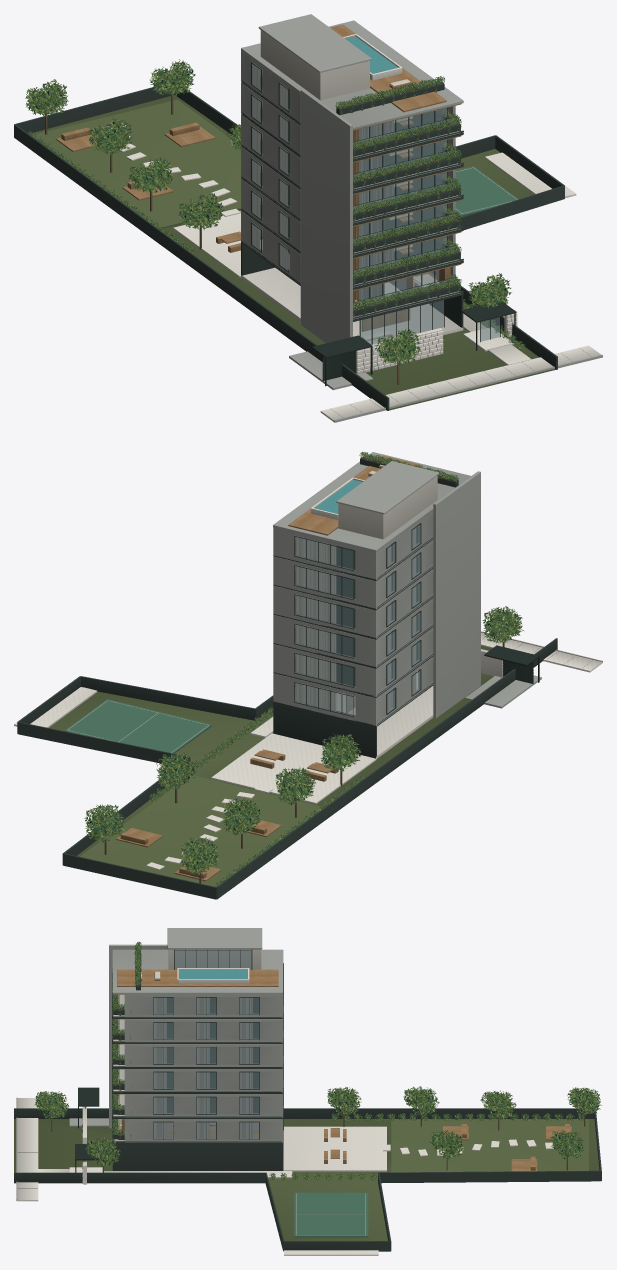
The model's file is apogeu.glb.
3 renders of one model, top to bottom at view 1: azimuth 30°, elevation 25°; view 2: azimuth 150°, elevation 25°; view 3: azimuth 270°, elevation 25°, orthographic. The views are drawn at different scales.
Visible parts, largest first — view 1: structure__Concreto mineral, site__Revestimento grafite, leisure__Forracao rasteira, site__Forracao rasteira, roof__Concreto mineral, site__Piso mineral claro, landscape__Folha 1, landscape__Folha 3, landscape__Folha 2, base__Piso mineral claro, landscape__Folha 0, roof__Paredes internas (+46 smaller); view 2: site__Revestimento grafite, leisure__Forracao rasteira, structure__Concreto mineral, site__Forracao rasteira, roof__Concreto mineral, leisure__Piso mineral claro, leisure__Quadra verde, landscape__Folha 1, landscape__Folha 3, landscape__Folha 2, landscape__Folha 0, floor_01__Concreto mineral (+37 smaller); view 3: site__Revestimento grafite, site__Forracao rasteira, leisure__Forracao rasteira, roof__Concreto mineral, leisure__Piso mineral claro, base__Revestimento grafite, leisure__Quadra verde, landscape__Folha 1, landscape__Folha 2, landscape__Folha 3, landscape__Folha 0, site__Piso mineral claro (+38 smaller).
Part boxes in pixels (x1,y1,x2,y2): structure__Concreto mineral: [300, 89, 352, 343]; site__Revestimento grafite: [14, 86, 588, 416]; leisure__Forracao rasteira: [32, 99, 241, 228]; site__Forracao rasteira: [32, 95, 555, 410]; roof__Concreto mineral: [241, 14, 463, 129]; site__Piso mineral claro: [320, 152, 601, 422]; landscape__Folha 1: [26, 61, 524, 364]; landscape__Folha 3: [25, 62, 524, 365]; landscape__Folha 2: [26, 59, 523, 362]; base__Piso mineral claro: [241, 267, 513, 351]; landscape__Folha 0: [27, 60, 525, 362]; roof__Paredes internas: [260, 30, 369, 100]; site__Revestimento grafite: [17, 637, 589, 899]; leisure__Forracao rasteira: [80, 775, 324, 886]; structure__Concreto mineral: [433, 471, 480, 718]; site__Forracao rasteira: [49, 645, 493, 856]; roof__Concreto mineral: [273, 452, 470, 552]; leisure__Piso mineral claro: [146, 733, 376, 869]; leisure__Quadra verde: [64, 699, 212, 753]; landscape__Folha 1: [84, 607, 522, 886]; landscape__Folha 3: [85, 606, 521, 886]; landscape__Folha 2: [85, 606, 524, 886]; landscape__Folha 0: [85, 608, 521, 885]; floor_01__Concreto mineral: [273, 656, 433, 726]; site__Revestimento grafite: [14, 1108, 601, 1251]; site__Forracao rasteira: [14, 1119, 599, 1240]; leisure__Forracao rasteira: [391, 1119, 588, 1172]; roof__Concreto mineral: [112, 928, 283, 994]; leisure__Piso mineral claro: [283, 1126, 553, 1171]; base__Revestimento grafite: [112, 1143, 282, 1170]; leisure__Quadra verde: [294, 1192, 368, 1237]; landscape__Folha 1: [35, 1087, 598, 1180]; landscape__Folha 2: [34, 1087, 602, 1179]; landscape__Folha 3: [35, 1086, 599, 1180]; landscape__Folha 0: [35, 1087, 600, 1180]; site__Piso mineral claro: [17, 1098, 378, 1255].
Size of the model in its own units: 43.2 by 26.56 by 68.52.
23 materials, 6 textured.
